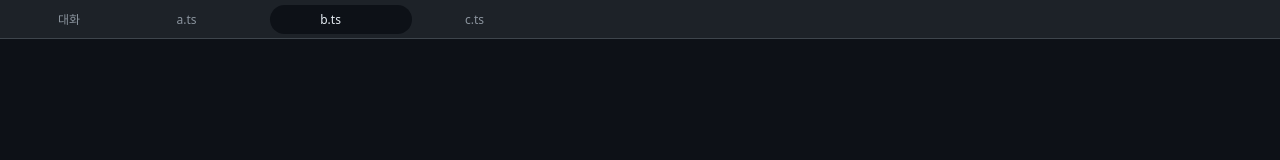
Test case: 탭 우클릭 닫기 메뉴 › 고르면 메뉴가 닫힌다
This screenshot has width=1280, height=160.
Right-click the text "b.ts" at (341, 19), box [270,4,412,34]
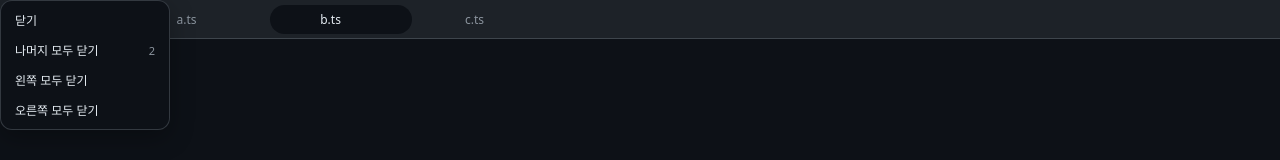
Click the menu item "닫기" at (85, 20), box [5,5,165,35]
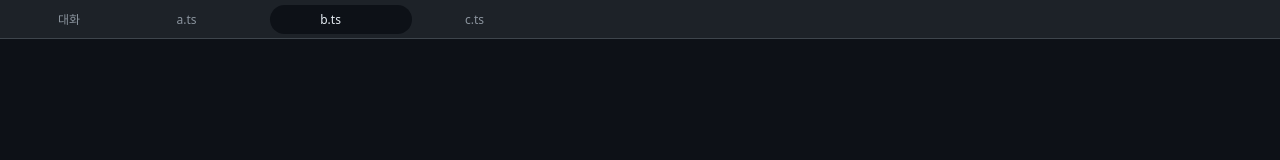
Check: the menu is gone
